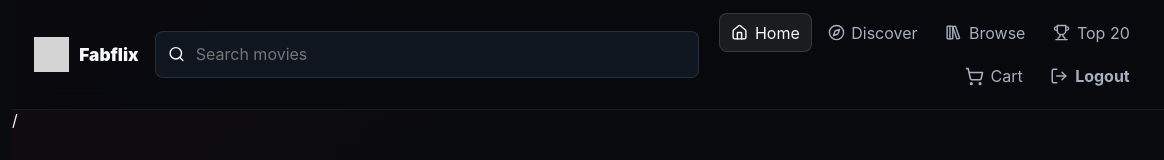
it: NavBar › navigates to the selected autocomplete movie
This screenshot has width=1164, height=160.
In the field labelled "Search movies": (440,54) [196,32,685,76], type "Spider"
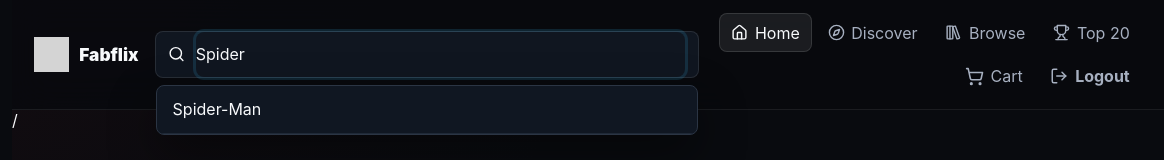
Click the button "Spider-Man": (217,109) [157,86,697,134]
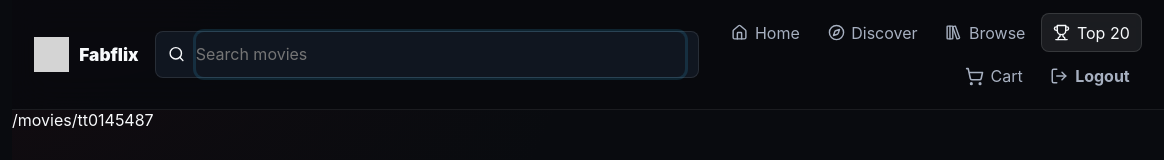
expect the text with test id "location" reads "/movies/tt0145487": met, box [12,110,154,130]
